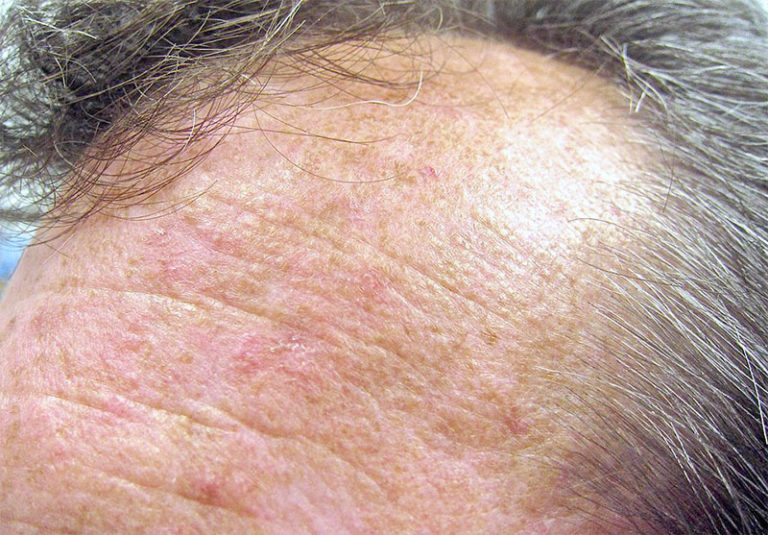Actinic Keratosis: (97, 189, 500, 477)
